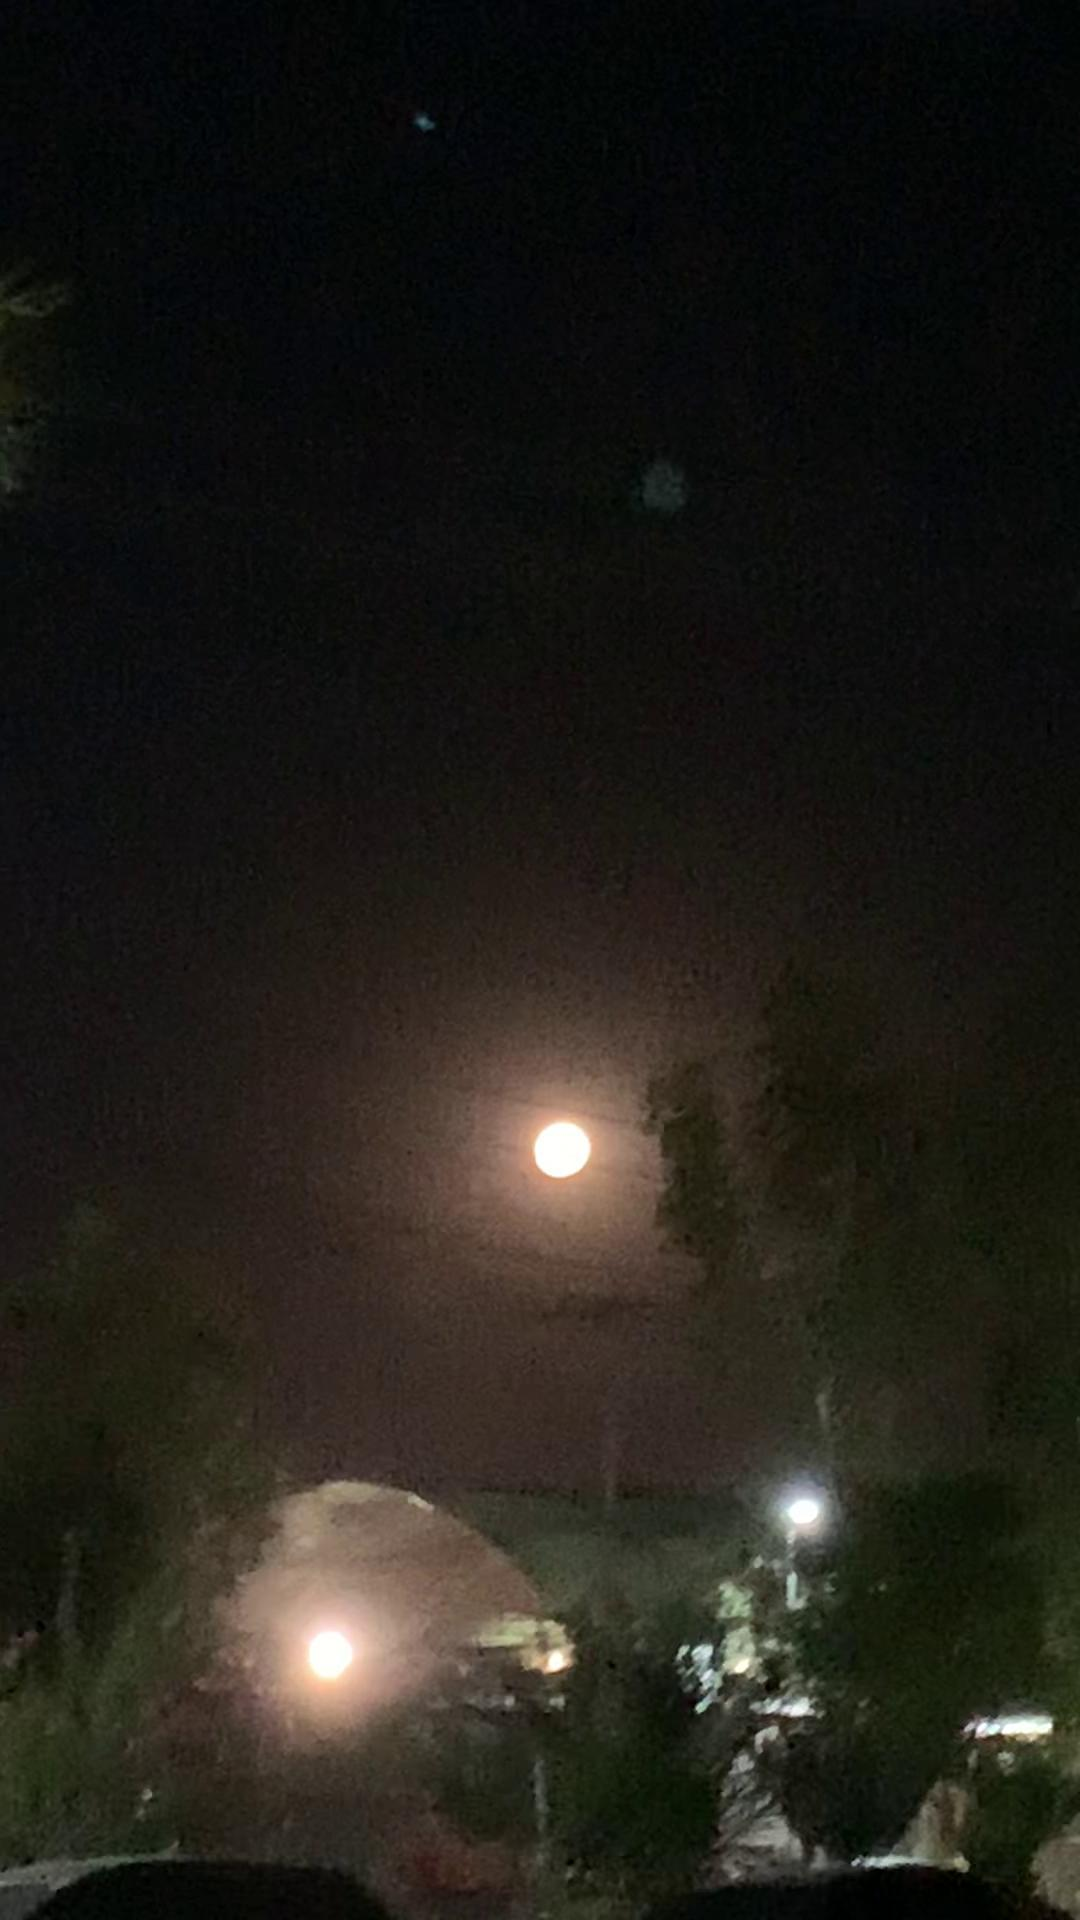moon: (518, 1125, 589, 1197)
